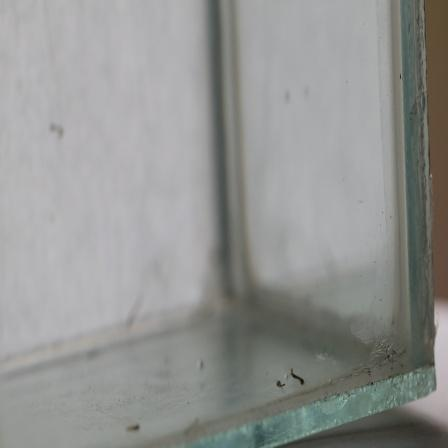Jentik-Nyamuk: (288, 366, 307, 388), (275, 375, 288, 391)
